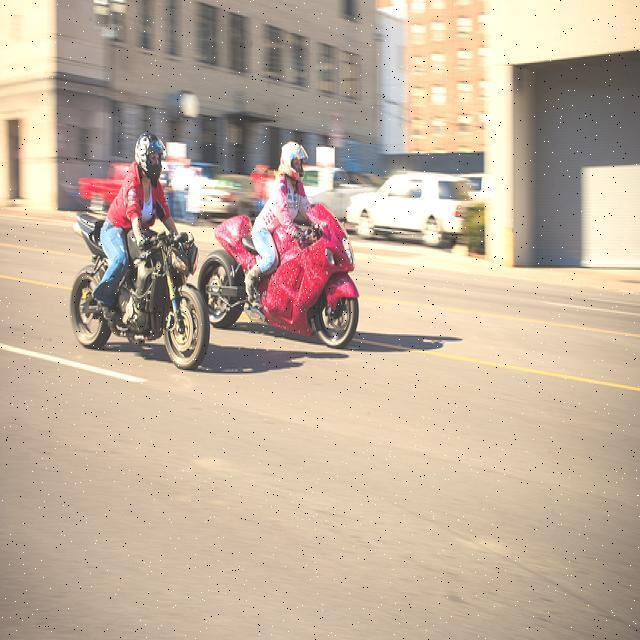car: (344, 159, 477, 244)
motorcycle: (59, 210, 215, 376), (200, 202, 365, 349)
